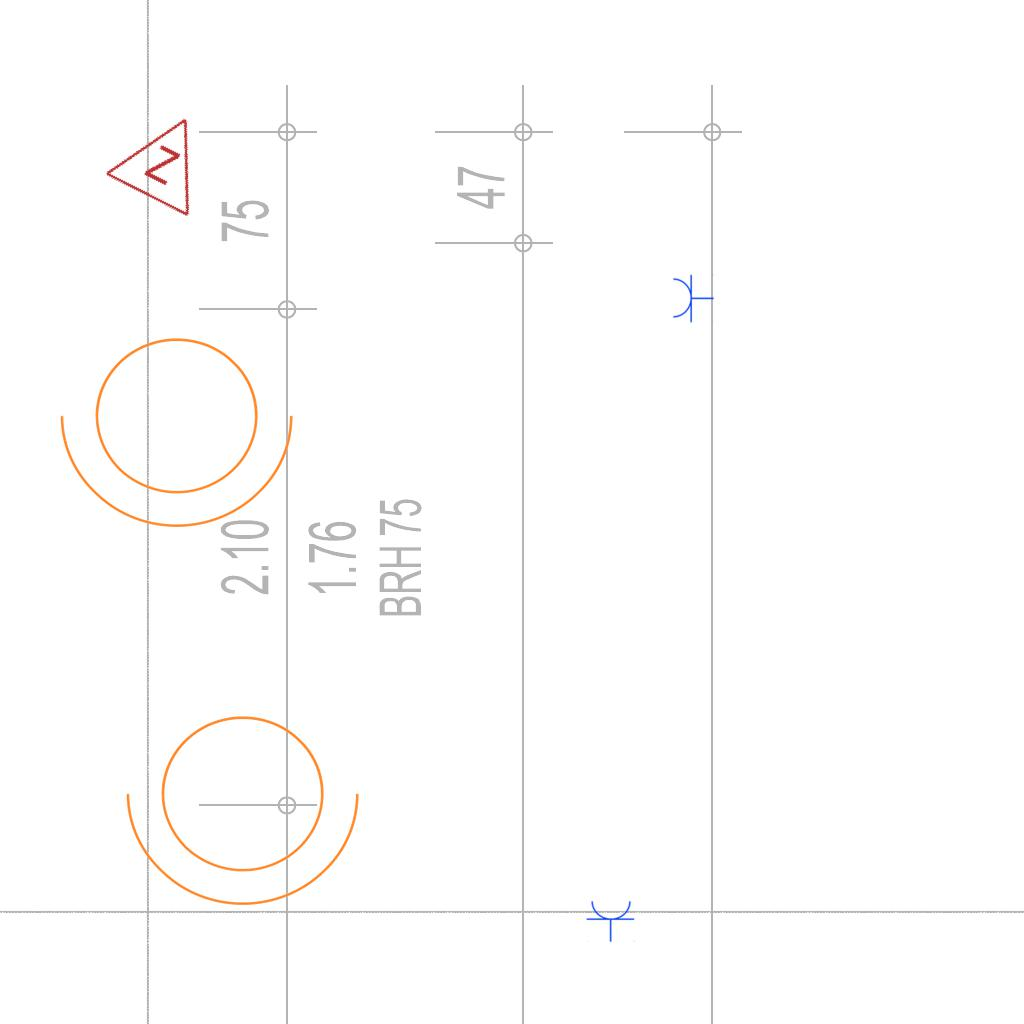Scheinwerfer_fuer_Alarmbeleuchtung: (51, 313, 315, 538), (117, 691, 381, 916)
Schukosteckdose_einfach: (586, 899, 636, 942), (671, 273, 714, 323)
Zimmersignalleuchte: (98, 90, 232, 224)
